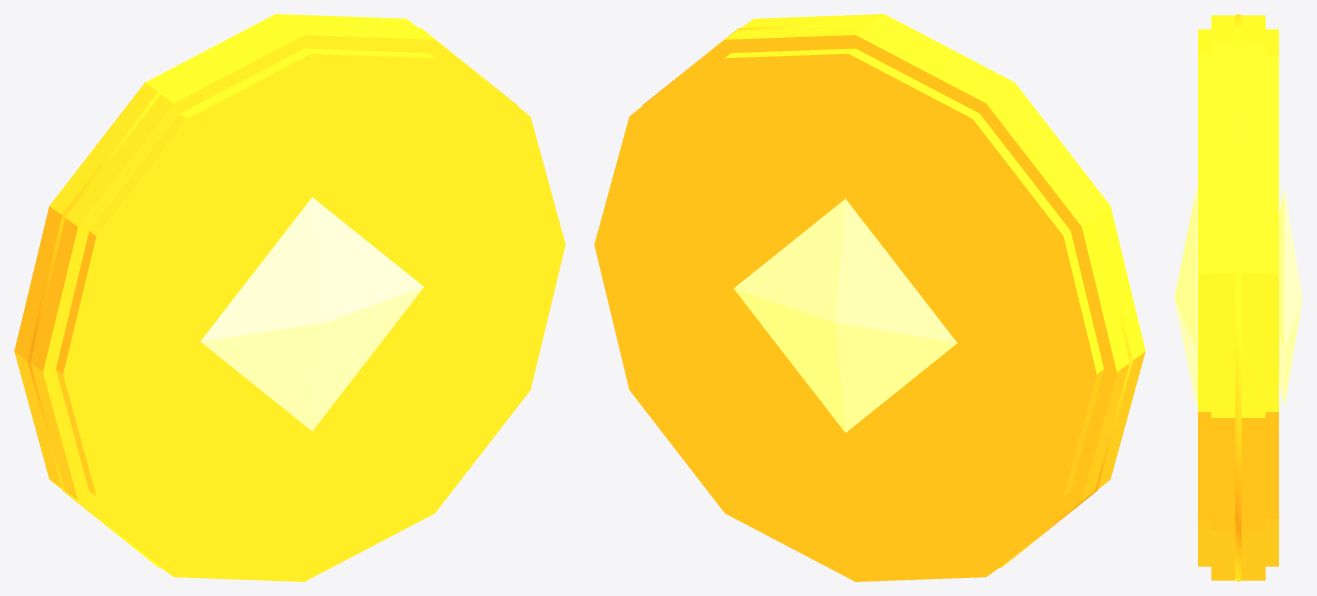
Rendered from prop_sky_coin.glb.
The picture shows the model from 3 angles, left to right: view 1: azimuth 30°, elevation 25°; view 2: azimuth 150°, elevation 25°; view 3: azimuth 270°, elevation 25°; orthographic projection. The views are drawn at different scales.
Parts seen in each view (by area): view 1: CoinDisc, Star_-0.065, CoinRim; view 2: CoinDisc, Star_0.065, CoinRim; view 3: CoinDisc, CoinRim, Star_0.065, Star_-0.065.
Part boxes in pixels (x1,y1,x2,y2): CoinDisc: (14, 14, 565, 581); Star_-0.065: (200, 197, 423, 431); CoinRim: (27, 23, 517, 567); CoinDisc: (594, 14, 1145, 581); Star_0.065: (733, 199, 957, 432); CoinRim: (642, 23, 1132, 567); CoinDisc: (1198, 15, 1278, 580); CoinRim: (1235, 14, 1241, 581); Star_0.065: (1279, 188, 1302, 407); Star_-0.065: (1174, 188, 1197, 407).
Size of the model in its own units: 0.844 by 0.844 by 0.19.
